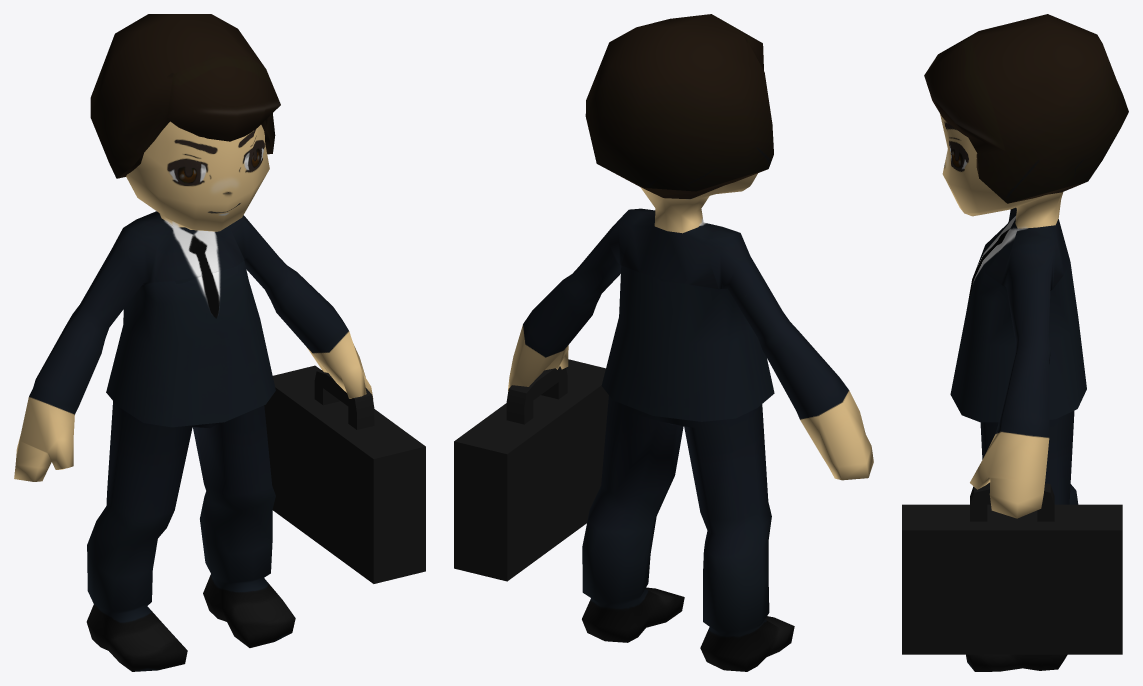
File: Human_SalaryMan.FBX
The picture shows the model from 3 angles, left to right: view 1: azimuth 30°, elevation 25°; view 2: azimuth 150°, elevation 25°; view 3: azimuth 270°, elevation 25°; orthographic projection. The views are drawn at different scales.
Visible parts, largest first — view 1: Human_SalaryMan, Suitcase; view 2: Human_SalaryMan, Suitcase; view 3: Human_SalaryMan, Suitcase.
Part boxes in pixels (left/top/right/bottom): Human_SalaryMan: left=14, top=14, right=373, bottom=671; Suitcase: left=264, top=365, right=425, bottom=583; Human_SalaryMan: left=508, top=14, right=873, bottom=671; Suitcase: left=454, top=359, right=608, bottom=581; Human_SalaryMan: left=924, top=14, right=1128, bottom=671; Suitcase: left=902, top=482, right=1122, bottom=654.
Bounding box in the file's own units: 84.76 × 140 × 47.19.
